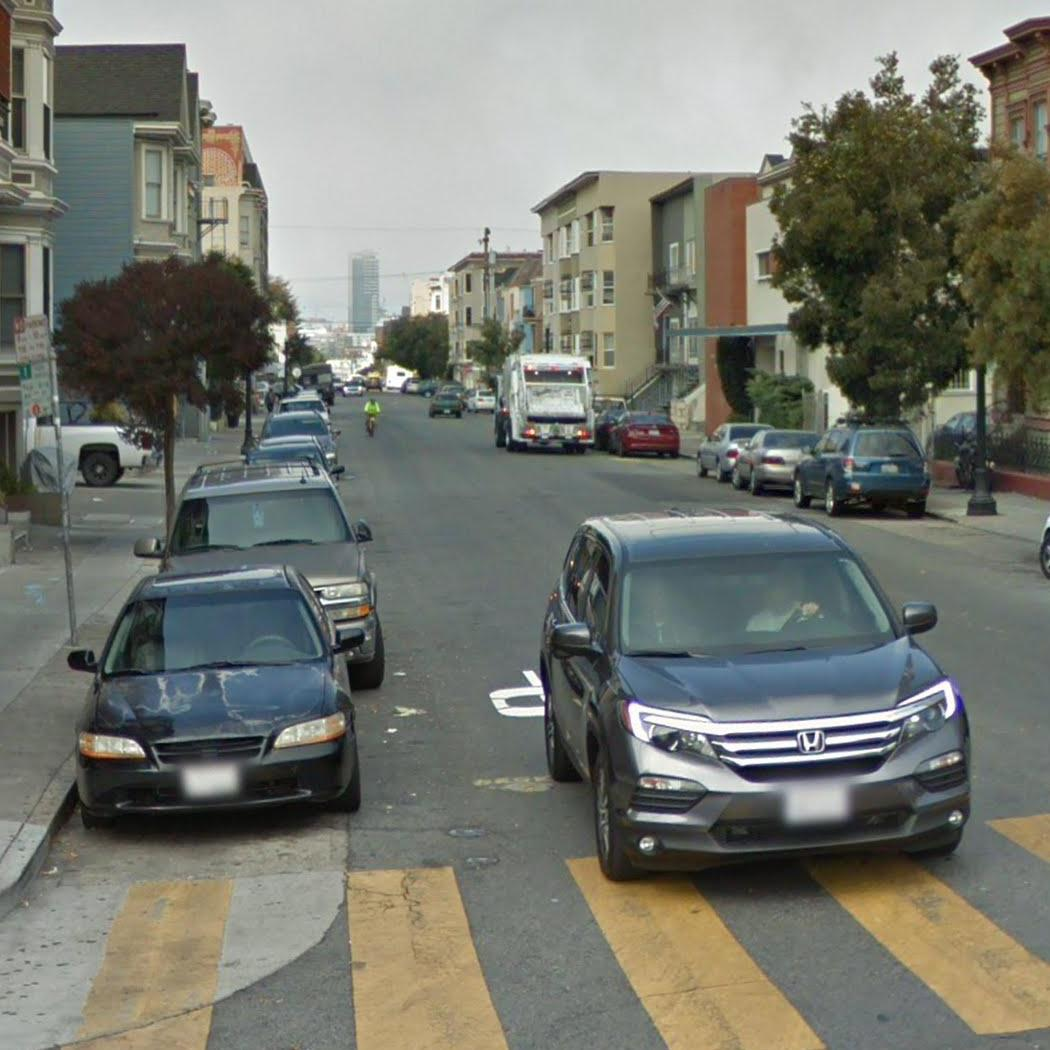1 Hour Parking: (15, 360, 58, 420)
No Parking: (10, 312, 55, 364)
